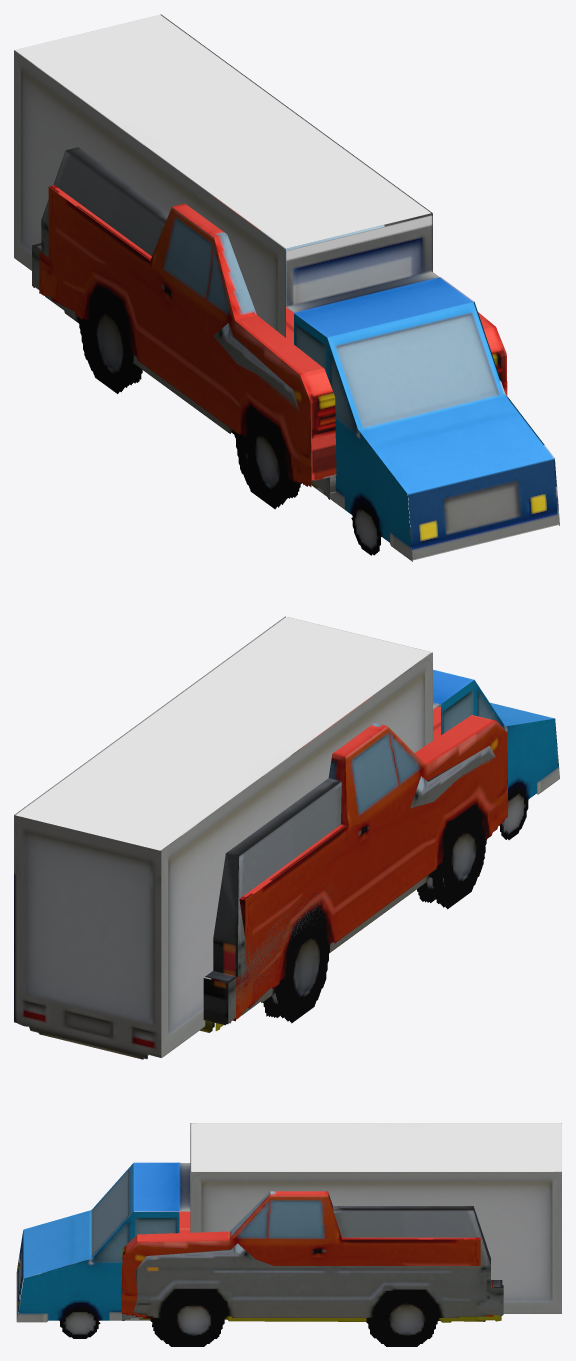
The model's file is Cars.fbx.
The picture shows the model from 3 angles, top to bottom: view 1: azimuth 30°, elevation 25°; view 2: azimuth 150°, elevation 25°; view 3: azimuth 270°, elevation 25°; orthographic projection. The views are drawn at different scales.
Parts seen in each view (by area): view 1: Car4, Car2, Car1, Car3; view 2: Car4, Car2, Car1, Car3; view 3: Car4, Car1, Car2, Car3.
Boxes of the visible parts, left/top/right/bottom form: Car4: left=14, top=14, right=559, bottom=561; Car2: left=39, top=185, right=507, bottom=509; Car1: left=32, top=145, right=311, bottom=498; Car3: left=128, top=362, right=335, bottom=499; Car4: left=14, top=616, right=559, bottom=1059; Car2: left=211, top=695, right=508, bottom=1021; Car1: left=161, top=745, right=500, bottom=1025; Car3: left=200, top=877, right=435, bottom=1032; Car4: left=16, top=1123, right=561, bottom=1338; Car1: left=132, top=1206, right=503, bottom=1346; Car2: left=121, top=1191, right=493, bottom=1346; Car3: left=122, top=1314, right=501, bottom=1322.
Size of the model in its own units: 201 by 236 by 702.
Materials: 1 (1 with a texture image).
